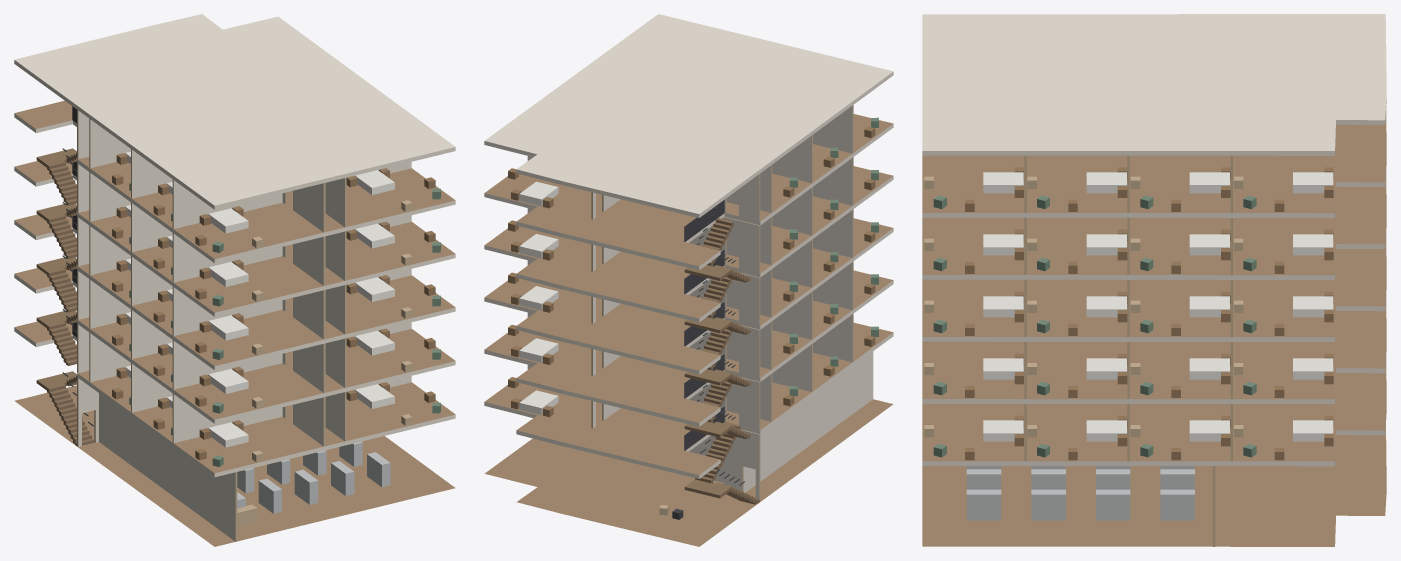
Rendered from interior.glb.
3 views of the same model, side by side, from view 1: azimuth 30°, elevation 25°; view 2: azimuth 150°, elevation 25°; view 3: azimuth 270°, elevation 25° (orthographic). The views are drawn at different scales.
Visible parts, largest first — view 1: slabs, partitions, stair, coarse-s0, coarse-s1, coarse-s3, coarse-s5, coarse-s2, coarse-s4; view 2: slabs, partitions, stair, coarse-s4, coarse-s5, coarse-s1, coarse-s2, coarse-s3; view 3: slabs, coarse-s0, coarse-s4, coarse-s3, coarse-s1, coarse-s5, coarse-s2, partitions.
Part boxes in pixels (<box>): slabs: <box>14,14,455,546</box>; partitions: <box>77,110,411,541</box>; stair: <box>36,106,94,446</box>; coarse-s0: <box>237,441,390,526</box>; coarse-s1: <box>112,365,440,466</box>; coarse-s3: <box>112,258,440,359</box>; coarse-s5: <box>112,151,440,252</box>; coarse-s2: <box>112,312,440,413</box>; coarse-s4: <box>112,205,440,306</box>; slabs: <box>484,14,893,546</box>; partitions: <box>527,105,873,501</box>; stair: <box>684,200,759,504</box>; coarse-s4: <box>508,170,878,260</box>; coarse-s5: <box>508,117,878,208</box>; coarse-s1: <box>508,326,878,417</box>; coarse-s2: <box>508,274,878,364</box>; coarse-s3: <box>508,222,878,312</box>; slabs: <box>922,14,1386,546</box>; coarse-s0: <box>966,466,1194,520</box>; coarse-s4: <box>924,229,1333,273</box>; coarse-s3: <box>924,291,1333,335</box>; coarse-s1: <box>924,415,1333,460</box>; coarse-s5: <box>924,167,1333,211</box>; coarse-s2: <box>924,353,1333,397</box>; partitions: <box>1024,155,1232,546</box>.
Bounding box in the file's own units: 16.08 × 21.67 × 23.03.
